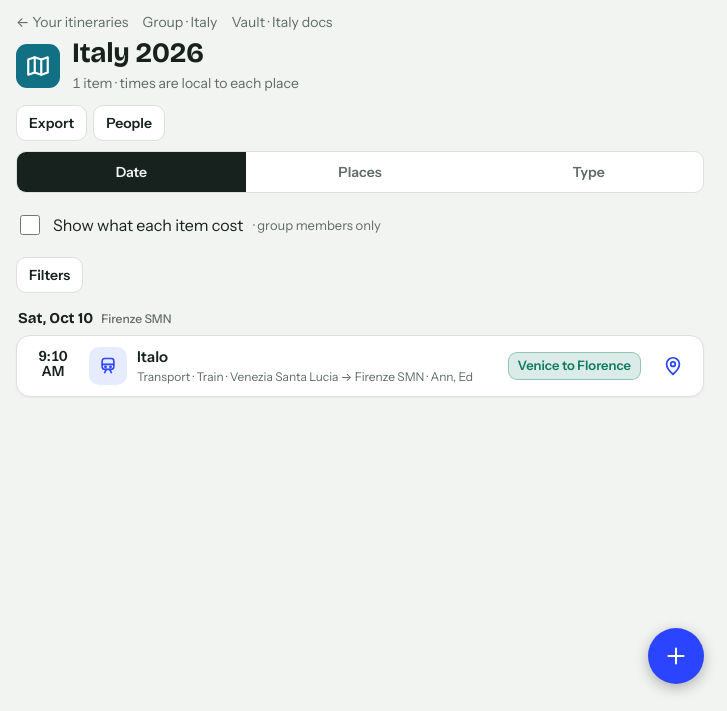
Test: amounts › shows the total on the timeline only once switched on
Check: the text "CAD 120.50" is not shown
Click the checkbox labelled "Show what each item cost · group members only": [30, 225] box [20,215,40,235]
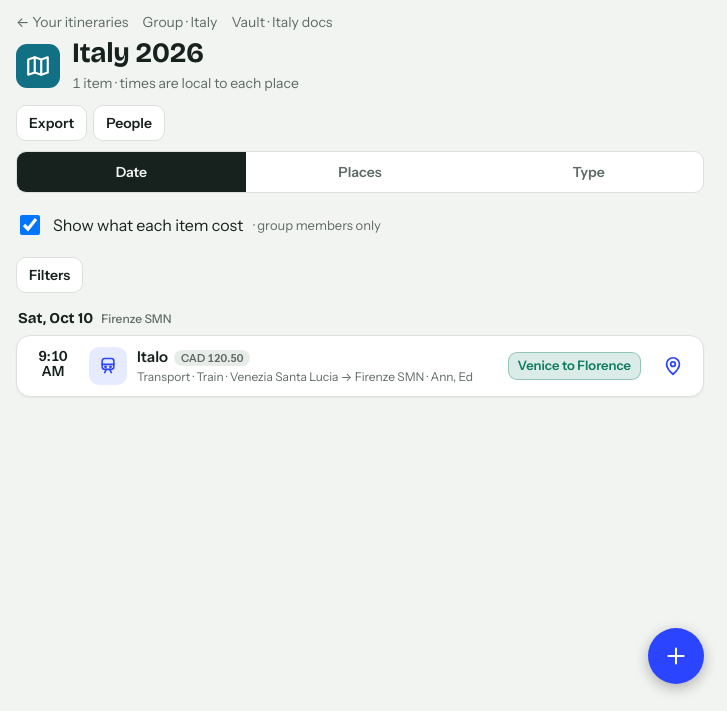
Check: the text "CAD 120.50" is shown, box [174,350,250,366]
